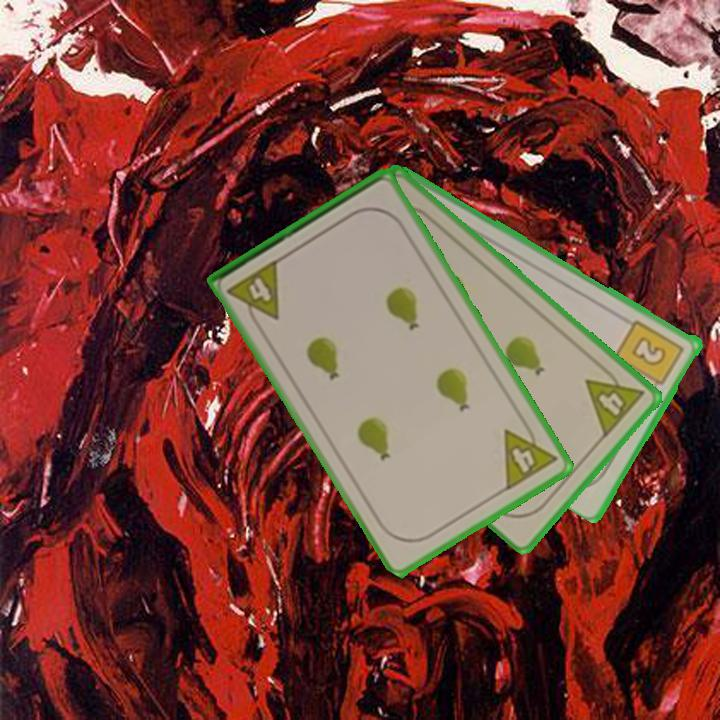2b: (612, 316, 688, 394)
4p: (582, 360, 647, 441), (500, 415, 561, 494), (224, 255, 283, 332)
